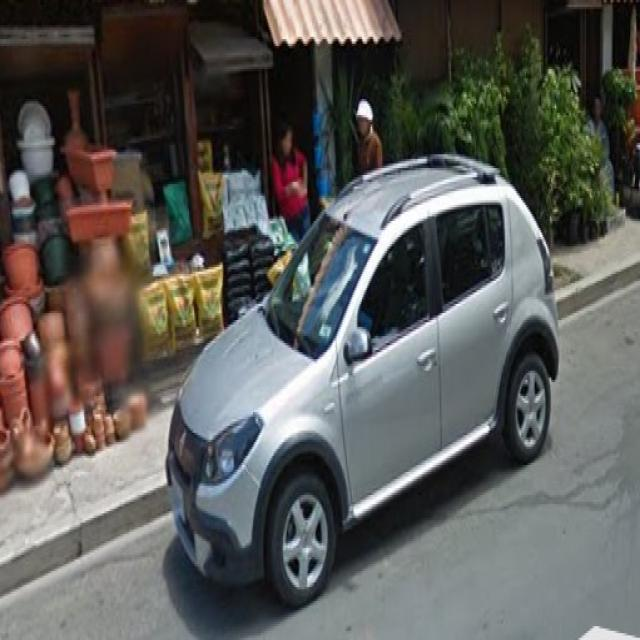cars: (164, 161, 562, 595)
